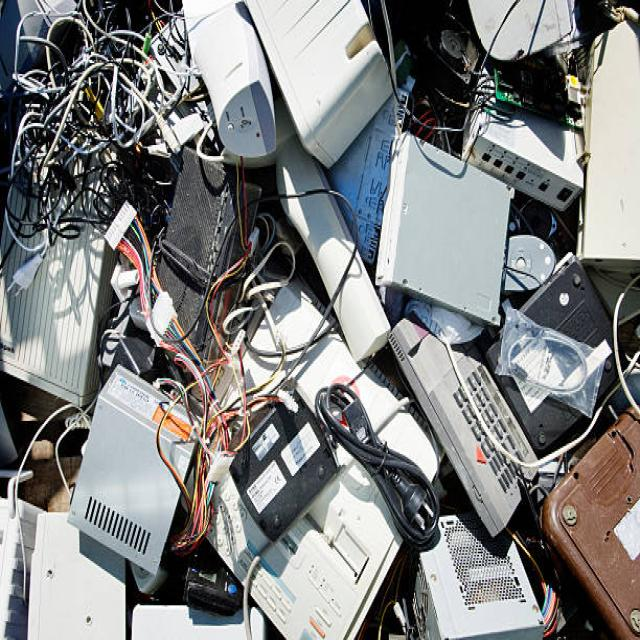metal: (7, 6, 613, 628)
